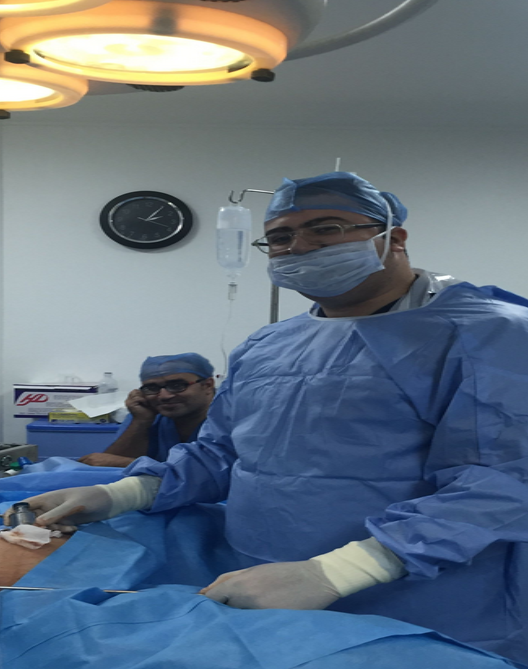mask_weared_incorrect: (242, 176, 408, 302)
